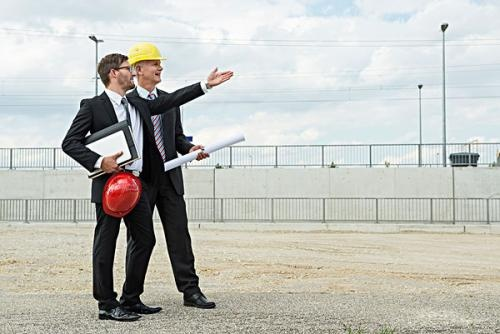none: (98, 53, 135, 92)
yellow: (128, 42, 166, 89)
